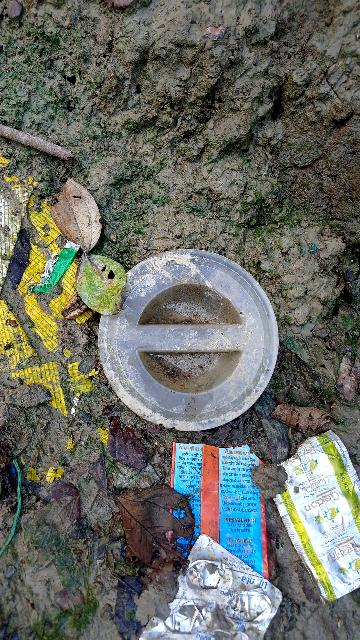hardplastic: (101, 246, 284, 433)
